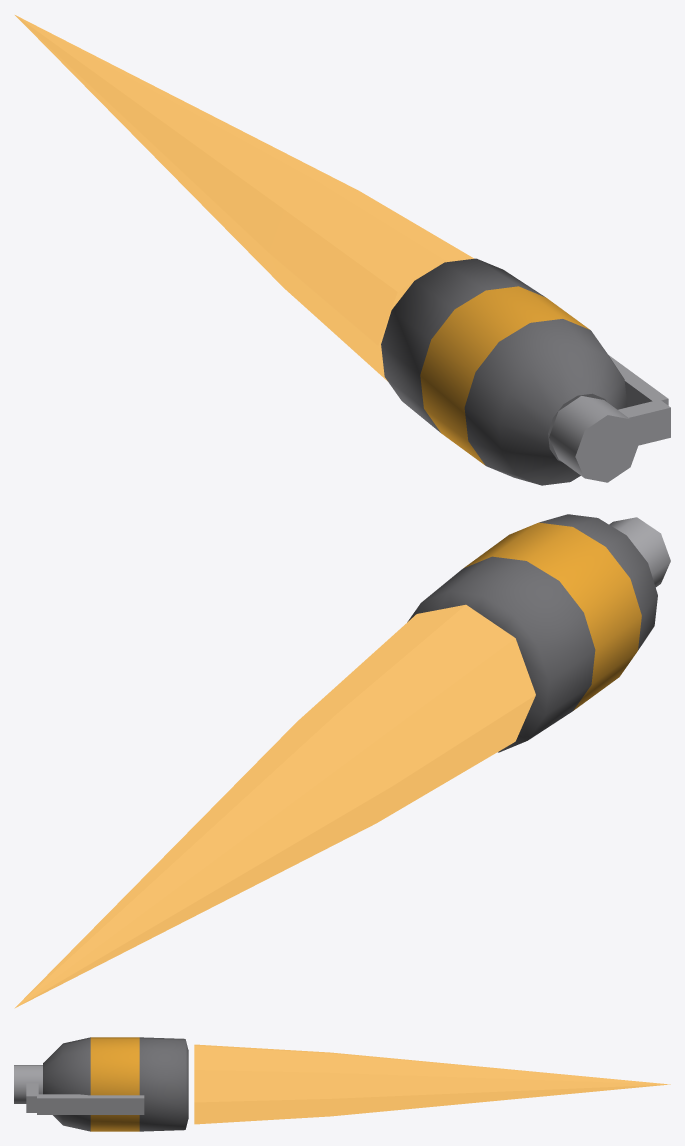
File: grenade_round.glb
3 renders of one model, top to bottom at view 1: azimuth 30°, elevation 25°; view 2: azimuth 150°, elevation 25°; view 3: azimuth 270°, elevation 25°, orthographic. The views are drawn at different scales.
Parts seen in each view (by area): view 1: grenade_round, grenade_trail; view 2: grenade_trail, grenade_round; view 3: grenade_trail, grenade_round.
Part boxes in pixels (x1,y1,x2,y2): grenade_round: (381, 258, 670, 485); grenade_trail: (15, 15, 473, 381); grenade_trail: (14, 604, 535, 1008); grenade_round: (407, 514, 670, 752); grenade_trail: (194, 1044, 670, 1124); grenade_round: (14, 1037, 188, 1131).
Bounding box in the file's own units: 0.1166 × 0.1109 × 0.7716.
